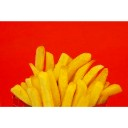frenchfries: (11, 45, 123, 106)
